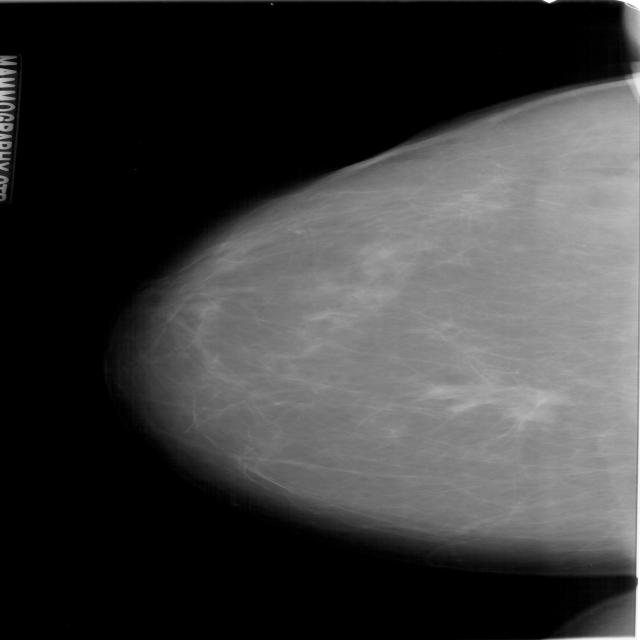normal: (117, 5, 640, 571)
